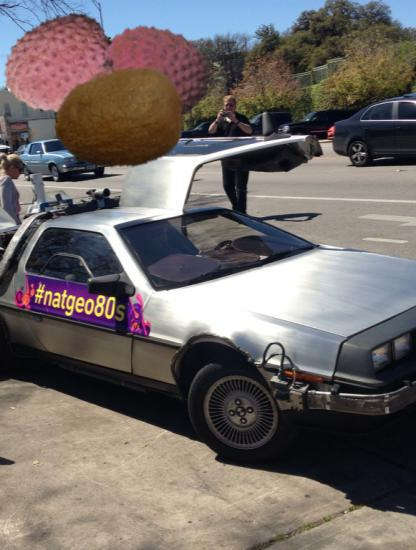Kiwi: (55, 53, 188, 186)
Lychee: (90, 13, 213, 136), (3, 9, 118, 124)
